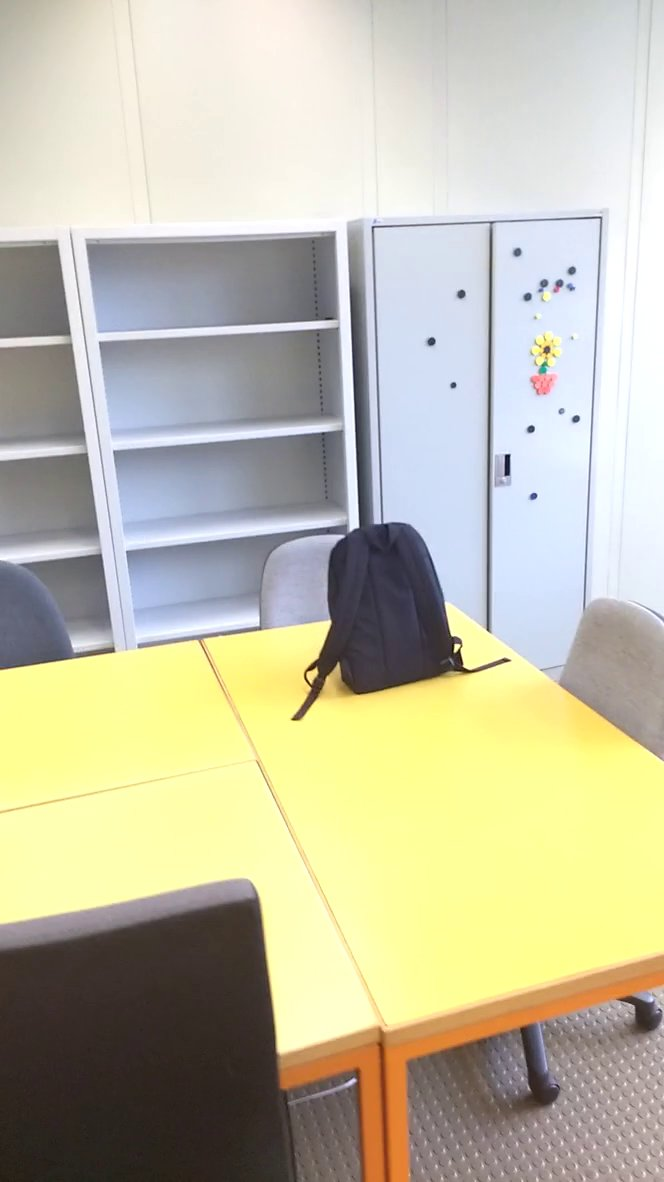bag: (284, 516, 513, 728)
chair: (546, 581, 664, 754)
